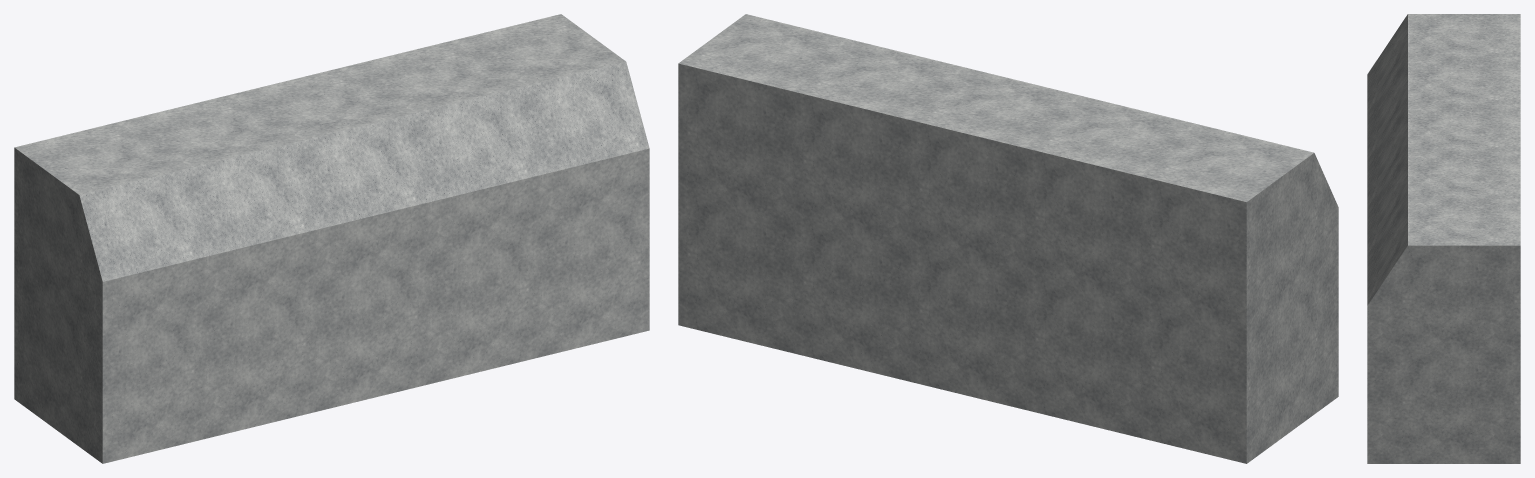
File: concrete-pavement-curb-beveled.glb
3 views of the same model, side by side, from view 1: azimuth 30°, elevation 25°; view 2: azimuth 150°, elevation 25°; view 3: azimuth 270°, elevation 25° (orthographic). The views are drawn at different scales.
Parts seen in each view (by area): view 1: concrete-pavement-curb-beveled; view 2: concrete-pavement-curb-beveled; view 3: concrete-pavement-curb-beveled.
Part boxes in pixels (x1,y1,x2,y2): concrete-pavement-curb-beveled: (14,14,649,463); concrete-pavement-curb-beveled: (678,14,1338,463); concrete-pavement-curb-beveled: (1367,14,1520,463).
Bounding box in the file's own units: 0.5 × 0.22 × 0.14.
1 material, 1 textured.
